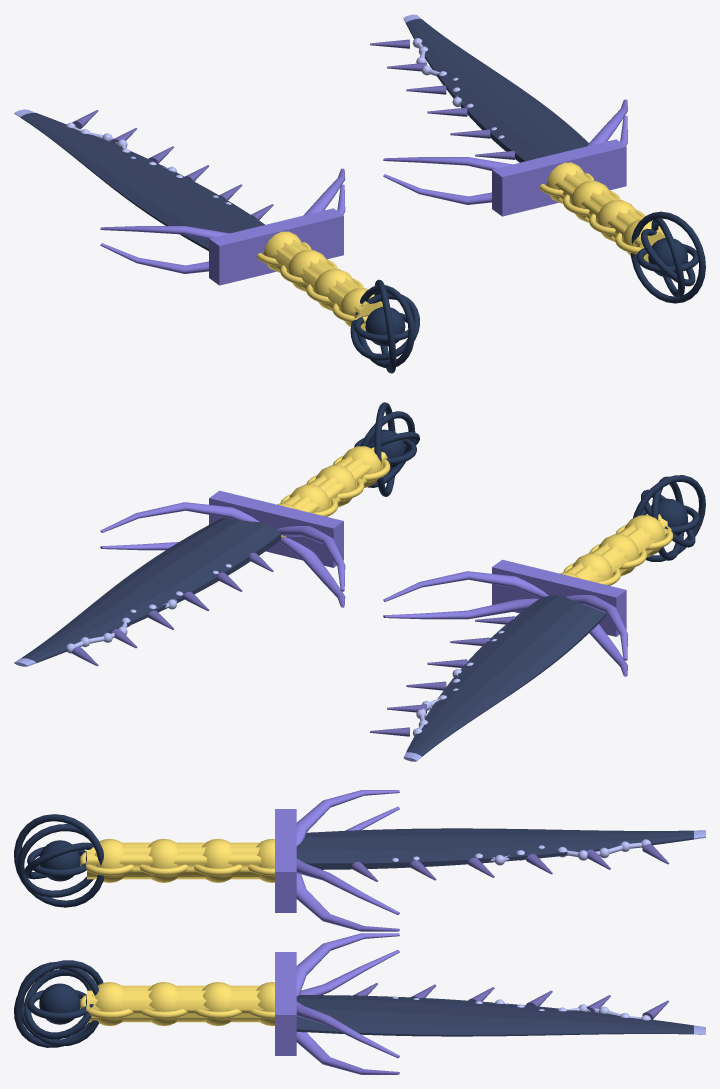
The model's file is art_void_reapers.fbx.
The picture shows the model from 3 angles, top to bottom: view 1: azimuth 30°, elevation 25°; view 2: azimuth 150°, elevation 25°; view 3: azimuth 270°, elevation 25°; orthographic projection. The views are drawn at different scales.
Visible parts, largest first — view 1: BladeL, Blade, CrossguardL, Crossguard, HandleL, Handle, Pommel, PommelL, BackSpike, BackSpikeL, RuneInlay; view 2: BladeL, Blade, CrossguardL, Crossguard, HandleL, Handle, PommelL, Pommel, BackSpikeL, BackSpike, RuneInlay; view 3: Blade, BladeL, Handle, HandleL, Crossguard, CrossguardL, Pommel, PommelL, BackSpikeL, BackSpike, RuneInlayL, RuneInlay.
Boxes of the visible parts, x1=… form: BladeL: x1=20, y1=113, x2=264, y2=250; Blade: x1=406, y1=18, x2=588, y2=162; CrossguardL: x1=100, y1=168, x2=345, y2=285; Crossguard: x1=383, y1=99, x2=627, y2=216; HandleL: x1=256, y1=231, x2=382, y2=331; Handle: x1=539, y1=162, x2=665, y2=262; Pommel: x1=630, y1=211, x2=705, y2=303; PommelL: x1=350, y1=279, x2=419, y2=373; BackSpike: x1=370, y1=39, x2=514, y2=159; BackSpikeL: x1=72, y1=110, x2=273, y2=219; RuneInlay: x1=412, y1=38, x2=504, y2=138; BladeL: x1=406, y1=595, x2=606, y2=756; Blade: x1=21, y1=517, x2=281, y2=663; CrossguardL: x1=383, y1=559, x2=627, y2=676; Crossguard: x1=100, y1=490, x2=345, y2=607; HandleL: x1=560, y1=514, x2=673, y2=585; Handle: x1=277, y1=446, x2=390, y2=537; PommelL: x1=632, y1=475, x2=705, y2=561; Pommel: x1=354, y1=402, x2=419, y2=496; BackSpikeL: x1=370, y1=616, x2=514, y2=736; BackSpike: x1=72, y1=552, x2=273, y2=666; RuneInlay: x1=66, y1=564, x2=231, y2=653; Blade: x1=296, y1=995, x2=693, y2=1036; BladeL: x1=296, y1=828, x2=693, y2=869; Handle: x1=80, y1=982, x2=274, y2=1026; HandleL: x1=80, y1=838, x2=274, y2=882; Crossguard: x1=275, y1=933, x2=399, y2=1074; CrossguardL: x1=275, y1=790, x2=399, y2=931; Pommel: x1=14, y1=960, x2=103, y2=1047; PommelL: x1=14, y1=814, x2=104, y2=907; BackSpikeL: x1=351, y1=844, x2=669, y2=881; BackSpike: x1=353, y1=983, x2=669, y2=1019; RuneInlayL: x1=392, y1=839, x2=650, y2=865; RuneInlay: x1=392, y1=996, x2=650, y2=1020.
Bounding box in the file's own units: 280 × 43.4 × 306.
